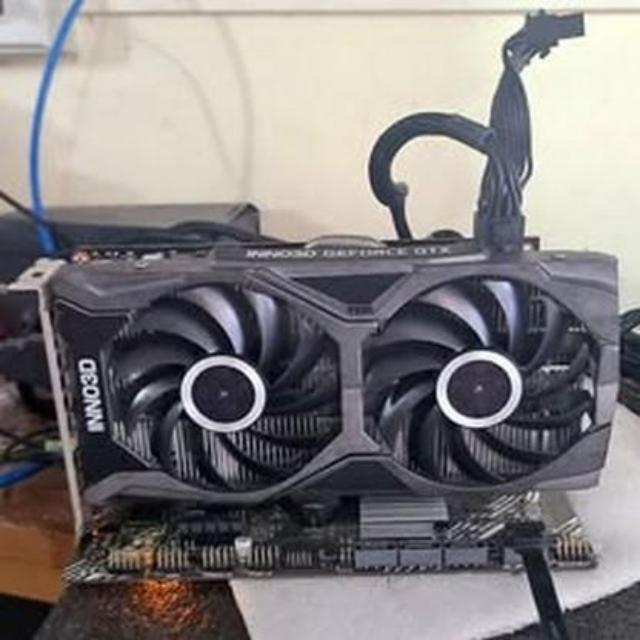GPU: (19, 230, 624, 528)
